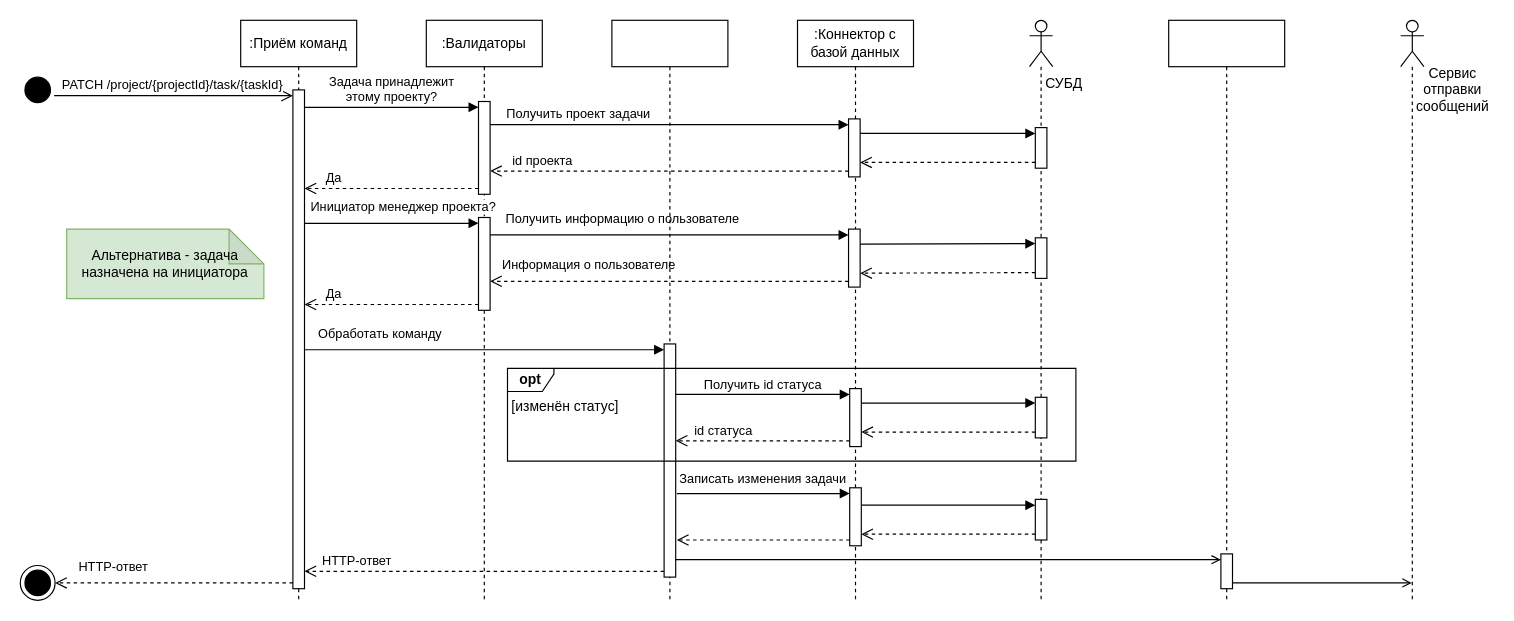
The diagram is 1514 pixels wide and 621 high, and some of its shapes have lost their labels. Here are the shapes that lost their labels. From the top down, the box of each, then its label:
(611, 19, 728, 600): :Обработчики команд
(1168, 19, 1285, 600): :Компонент оповещения
